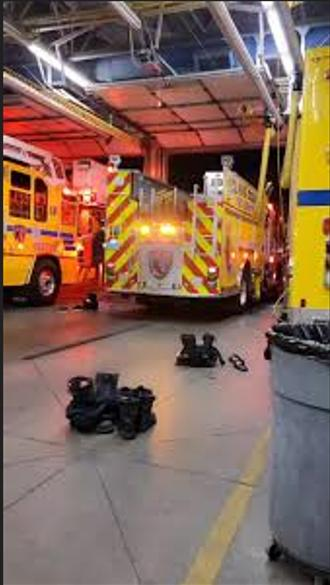firetruck_on: (96, 166, 277, 306), (3, 133, 98, 305)
